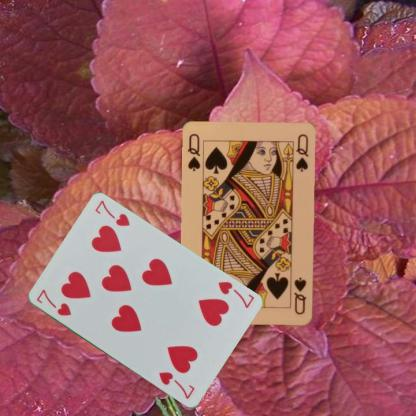7h: (215, 278, 255, 310), (33, 287, 72, 317)
Qs: (291, 274, 308, 316), (185, 131, 202, 173)
